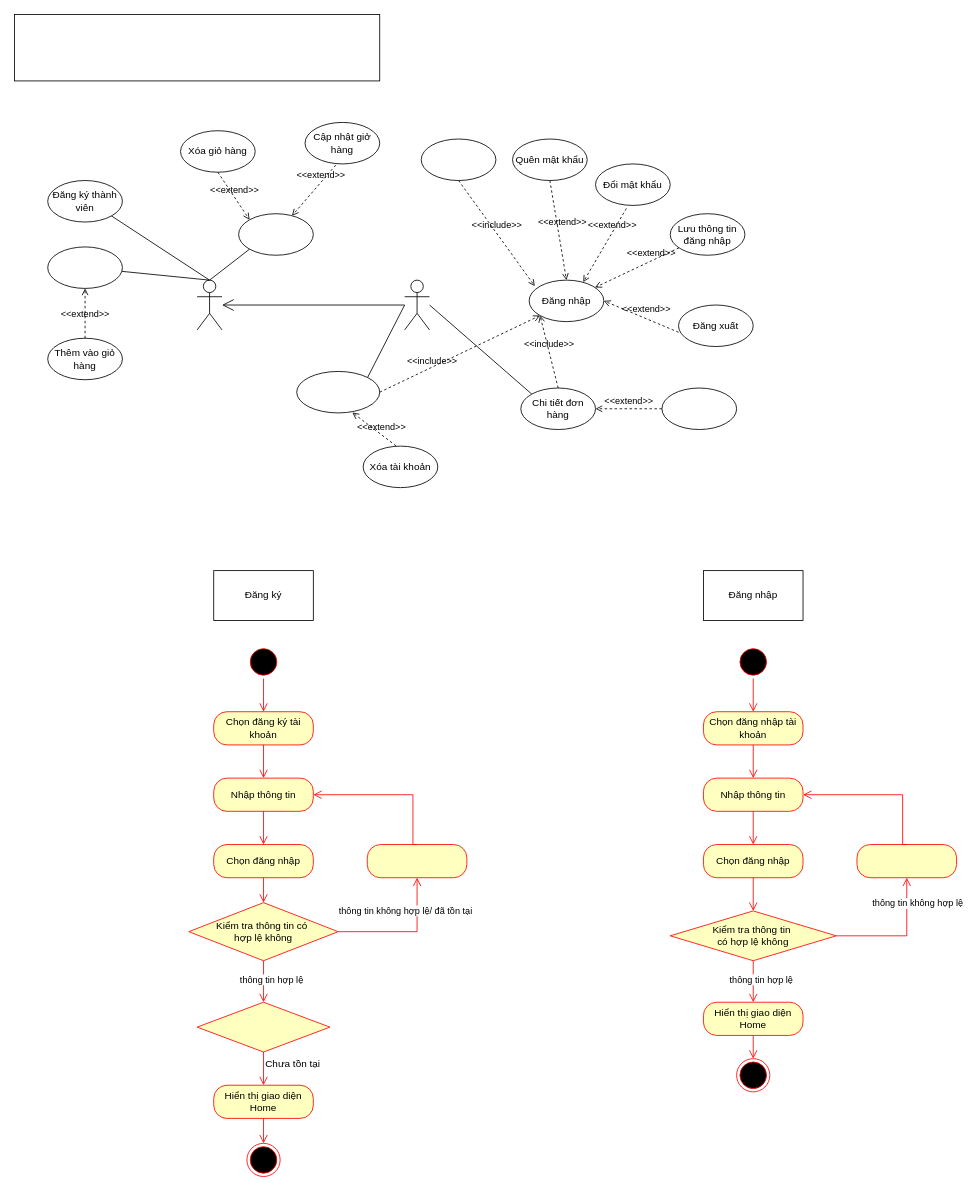
Some shapes in this 978 by 1191 pixel diagram are drawn without their labels. The shapes that lost their labels are listed below. From the top down, each one's centre as x and y in pixels, then its label:
the point at 197,47: Usecase khách hàng và khách vãng lai đăng kí tài khoản
the point at 458,159: Đặt hàng
the point at 275,234: Quản lí giỏ hàng
the point at 84,267: Xem thông tin sản phẩm
the point at 209,304: Khách vãng lai
the point at 417,304: Thành viên
the point at 338,392: Cập nhật thông tin cá nhân
the point at 699,408: Hủy đơn
the point at 416,861: Thông báo thông tin không hợp lệ
the point at 906,861: Thông báo đăng nhập không thành công
the point at 263,1026: Thông báo thông tin hợp hệ
